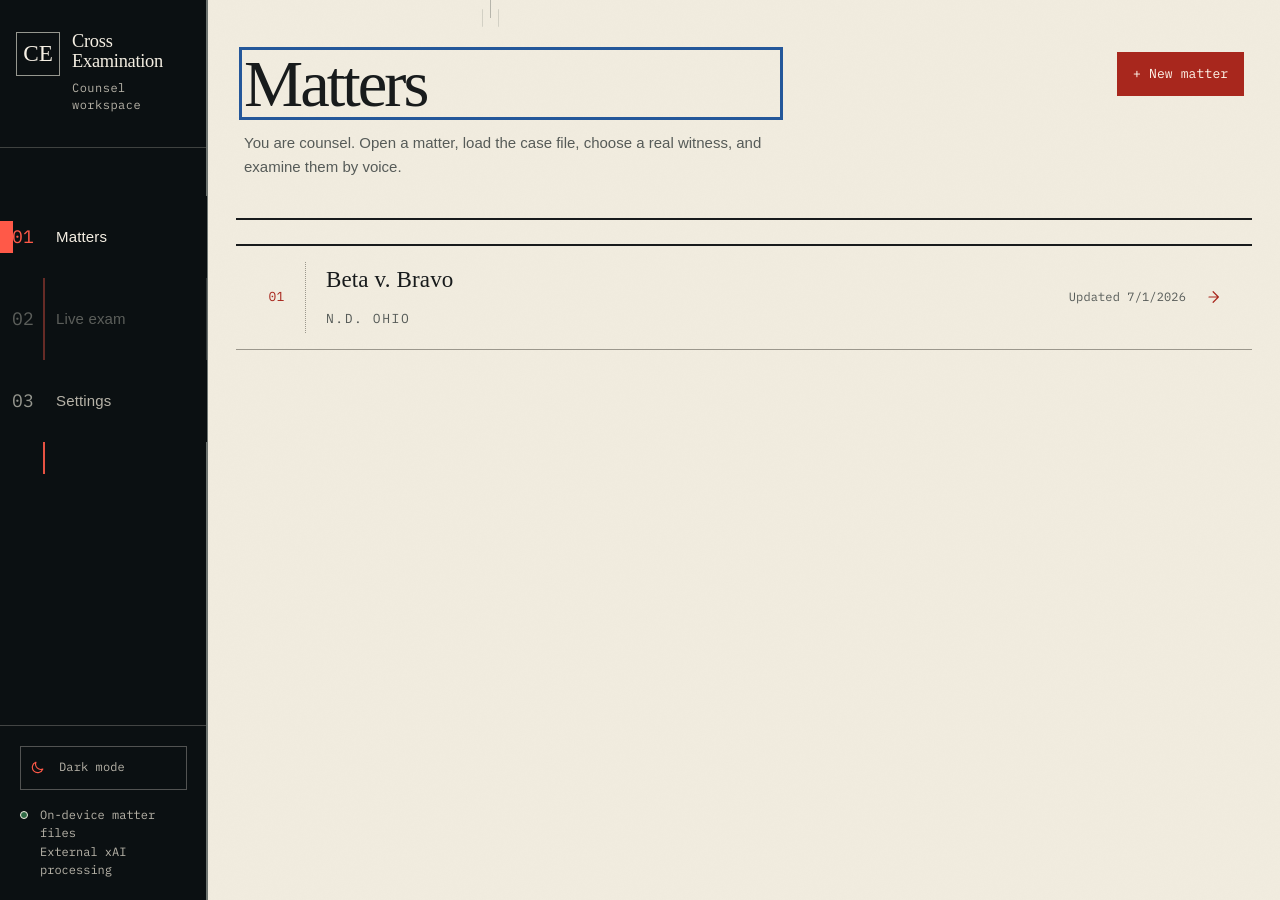
Test case: App presentation accessibility contracts › programmatically names every practice-session selector
Step 1. Click the button "01 Beta v. Bravo N.D. Ohio Updated 7/1/2026" → (277, 298), box 236,246 -> 1252,350
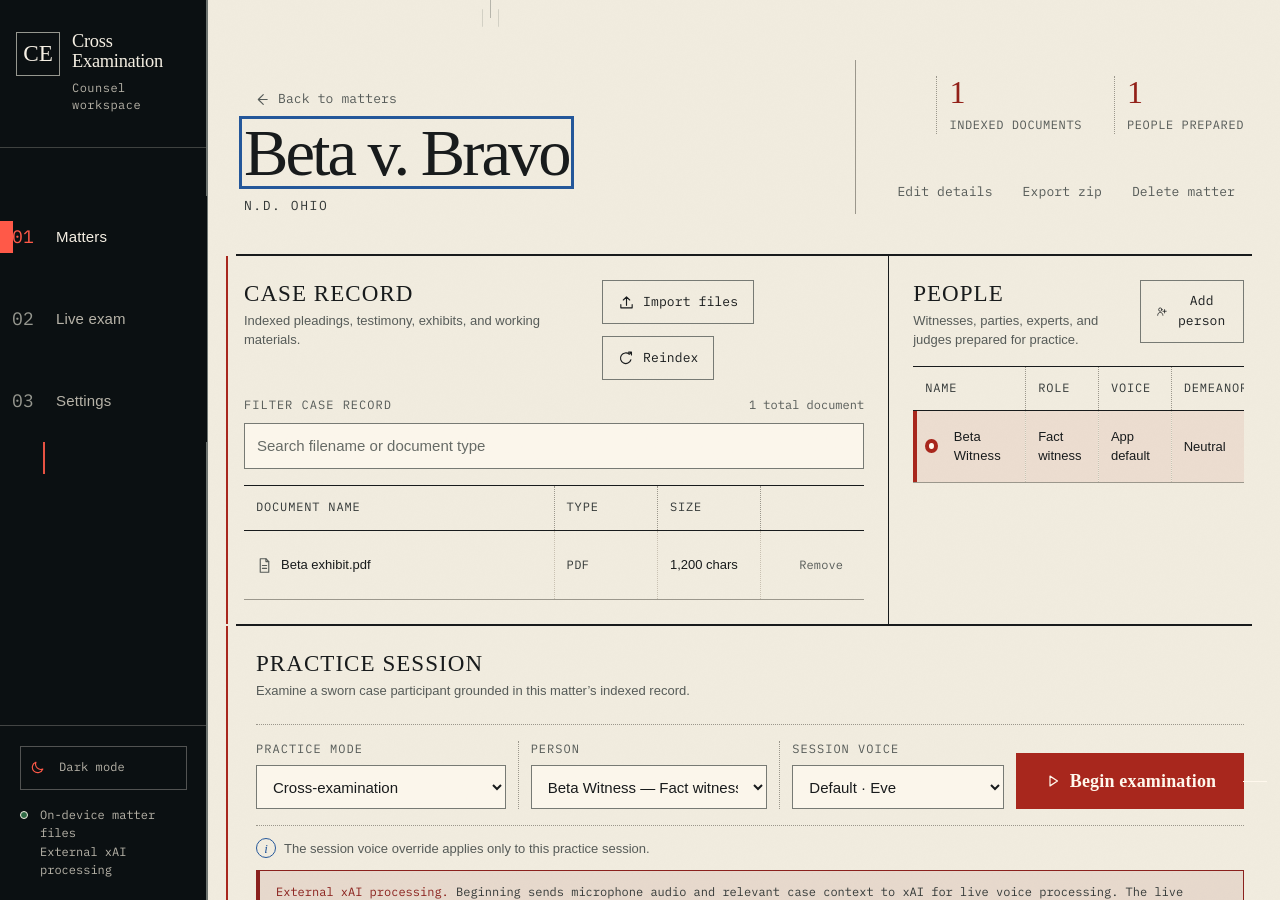
Result: the dropdown labelled "Practice mode" is shown at 256,765 -> 506,809
Result: the dropdown labelled "Person" is shown at 531,765 -> 767,809
Result: the dropdown labelled "Session voice" is shown at 792,765 -> 1004,809
